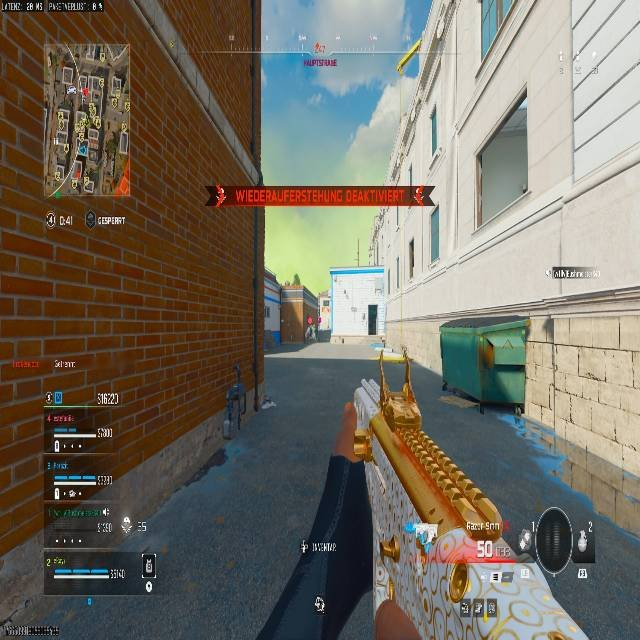head: (528, 507, 589, 572)
